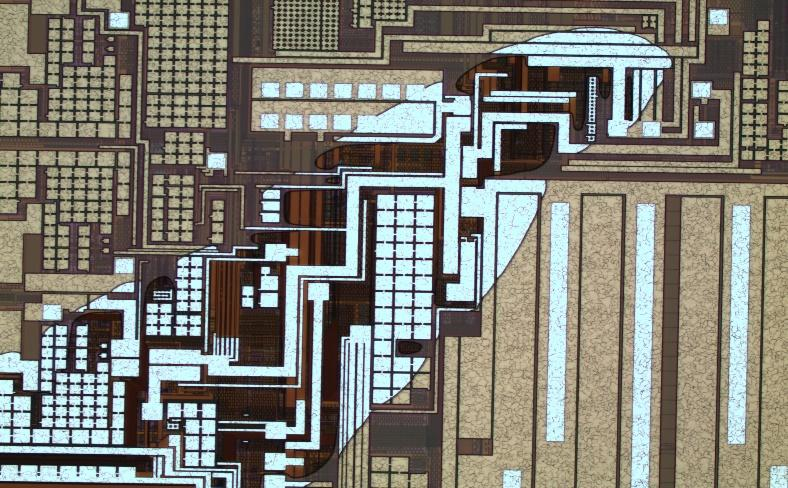COATING BAD: (1, 28, 675, 488)
